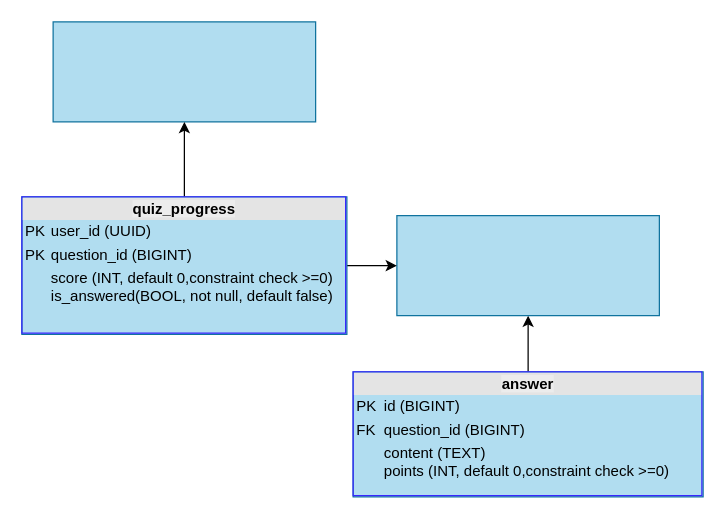
Image size: 725x519. Some labels were removed from this diagram. Here are the shapes that lost their labels. From the top down, the box of each, then its label:
(52, 21, 316, 122): user PK id (UUID) name (VARCHAR 255, nullable)
(396, 214, 659, 316): question PK id (BIGINT) content (TEXT)
